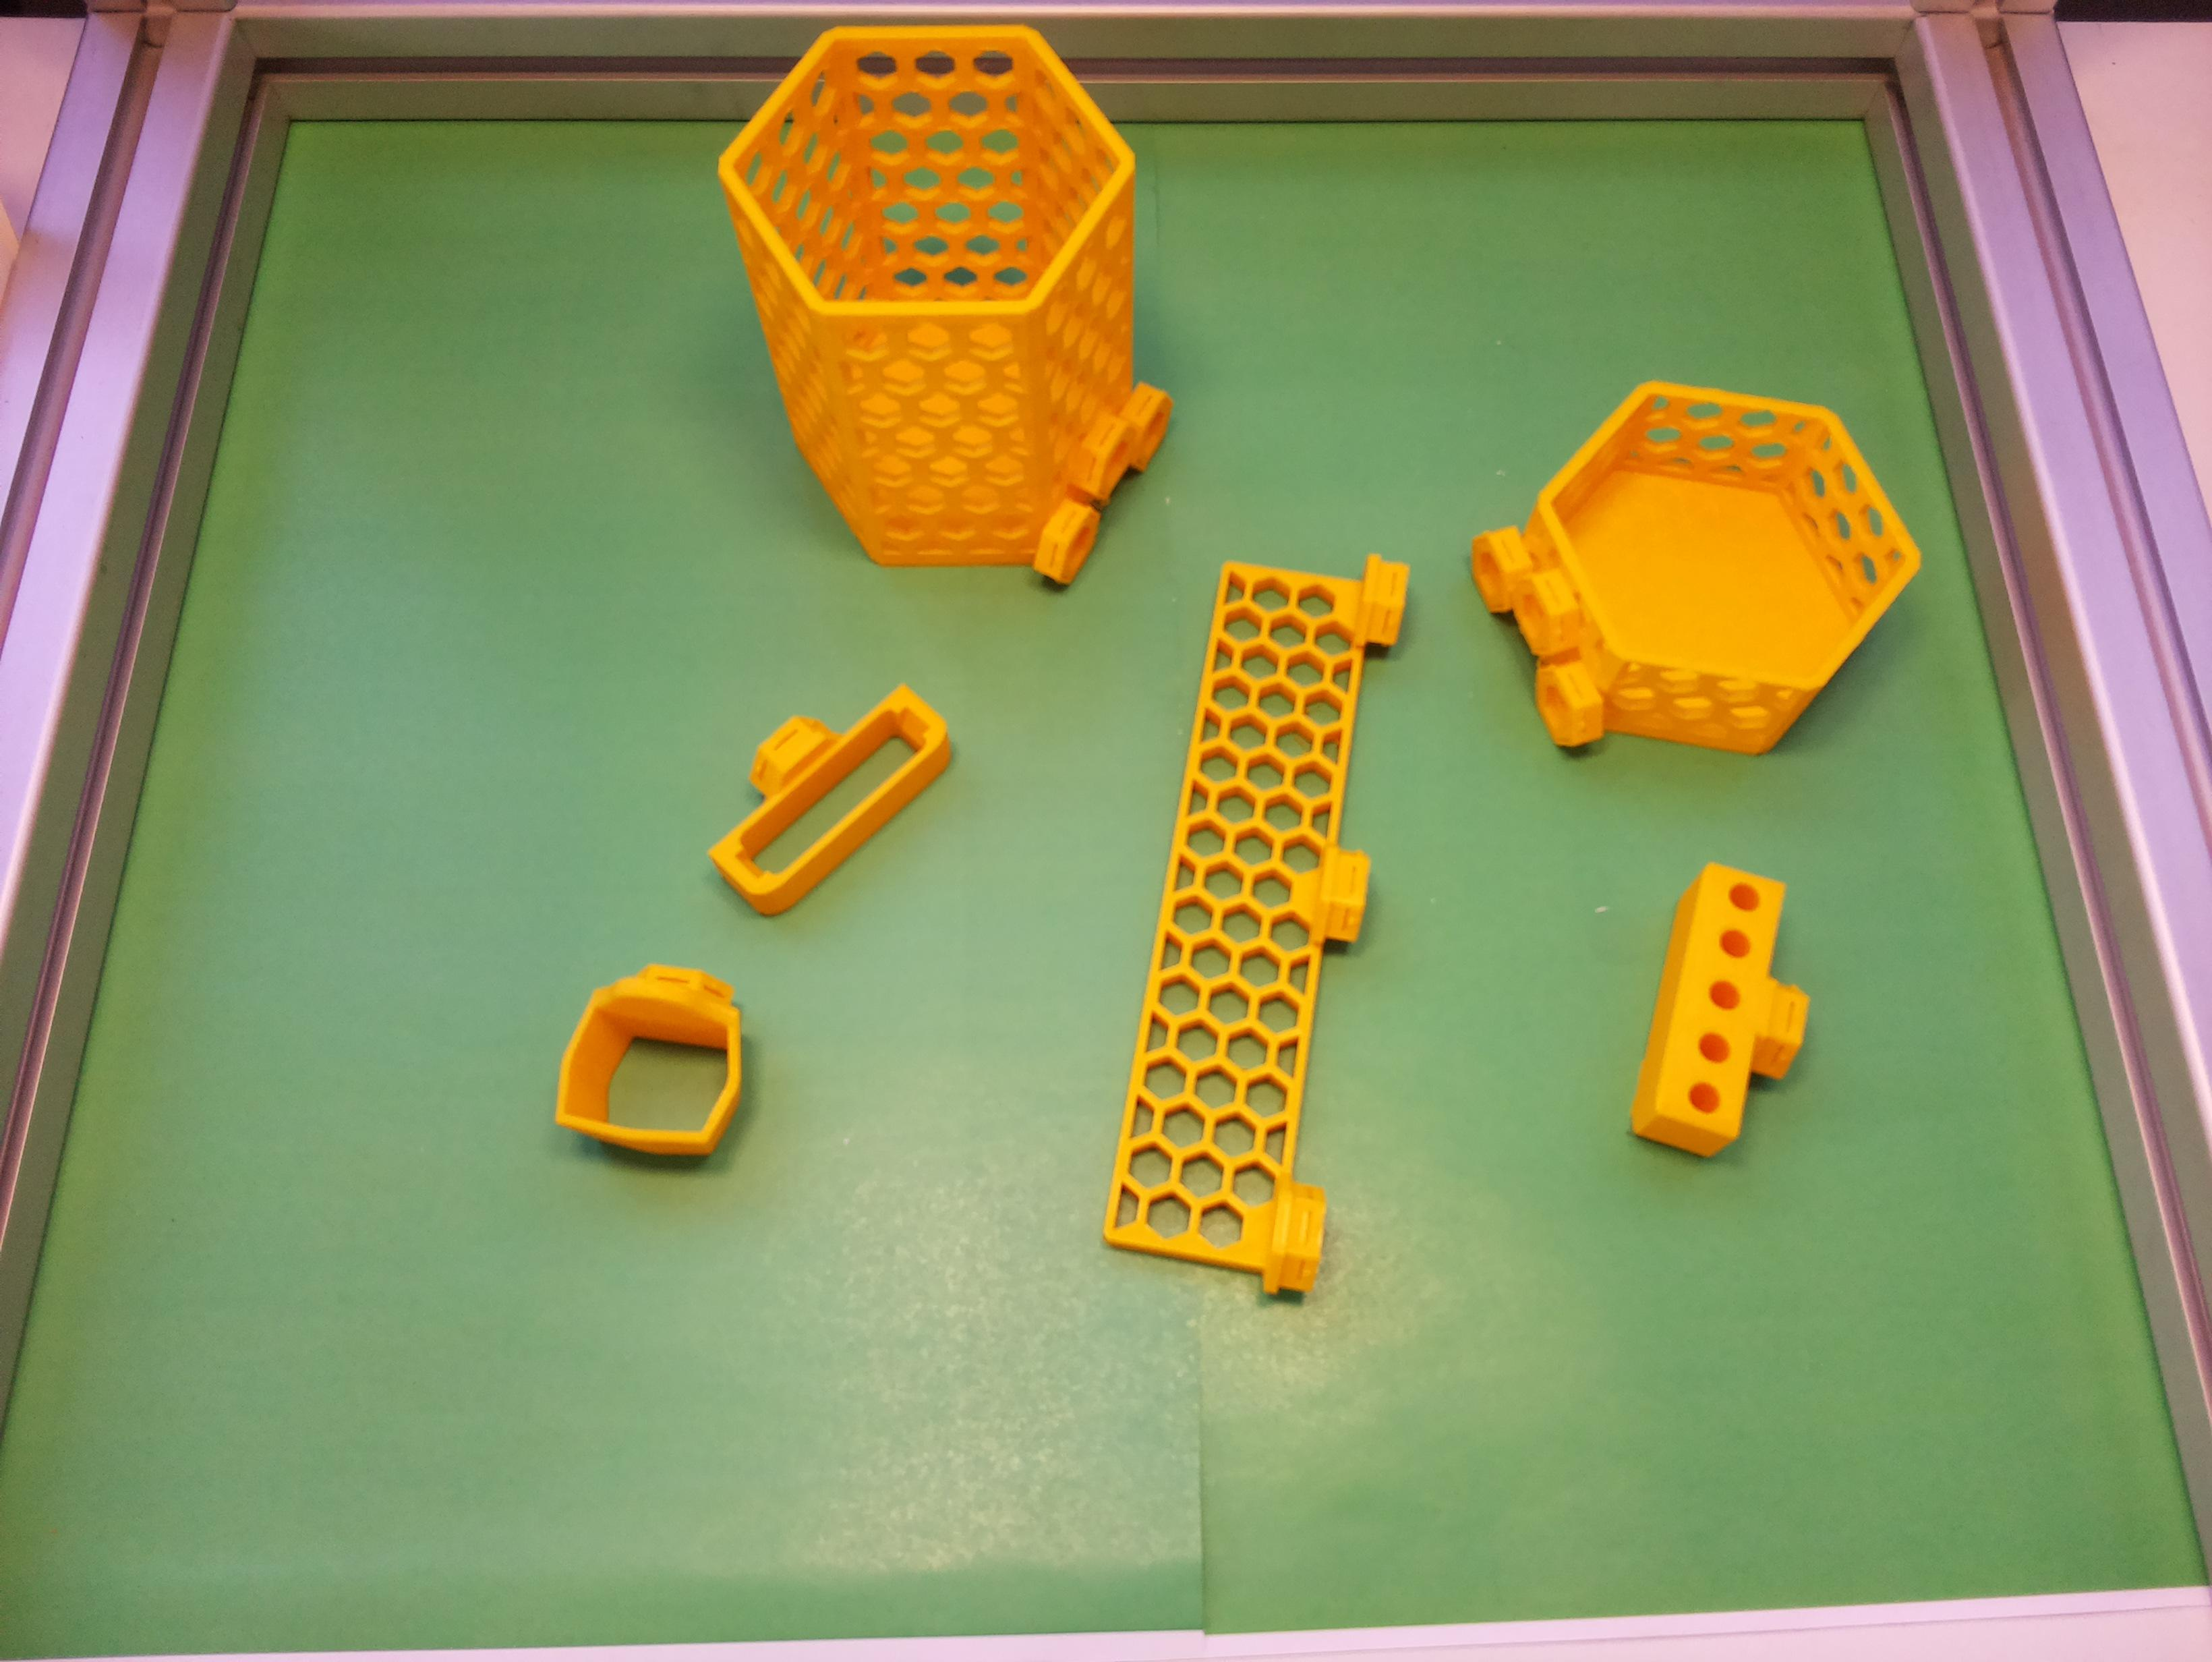bit_holder: (1624, 857, 1837, 1173)
bottle_holder: (1416, 302, 1971, 852)
cutter_holder: (676, 644, 969, 929)
scissor_holder: (552, 955, 756, 1164)
tool_holder: (1098, 531, 1411, 1301)
